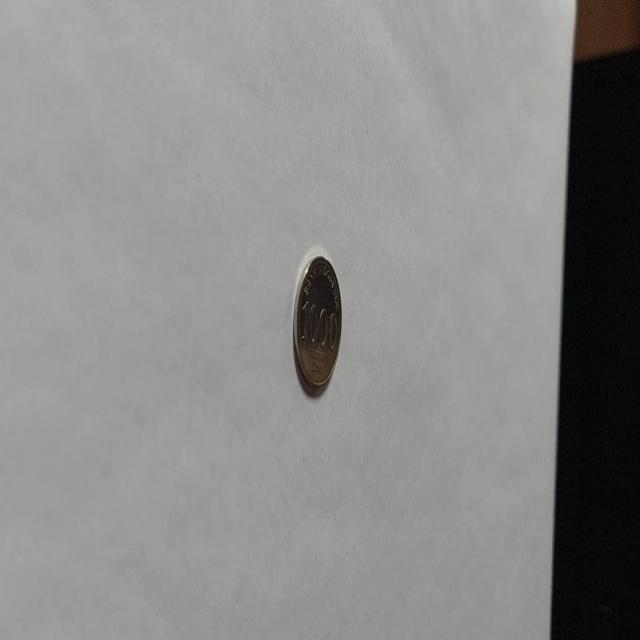seribu rupiah koin: (292, 252, 342, 396)
